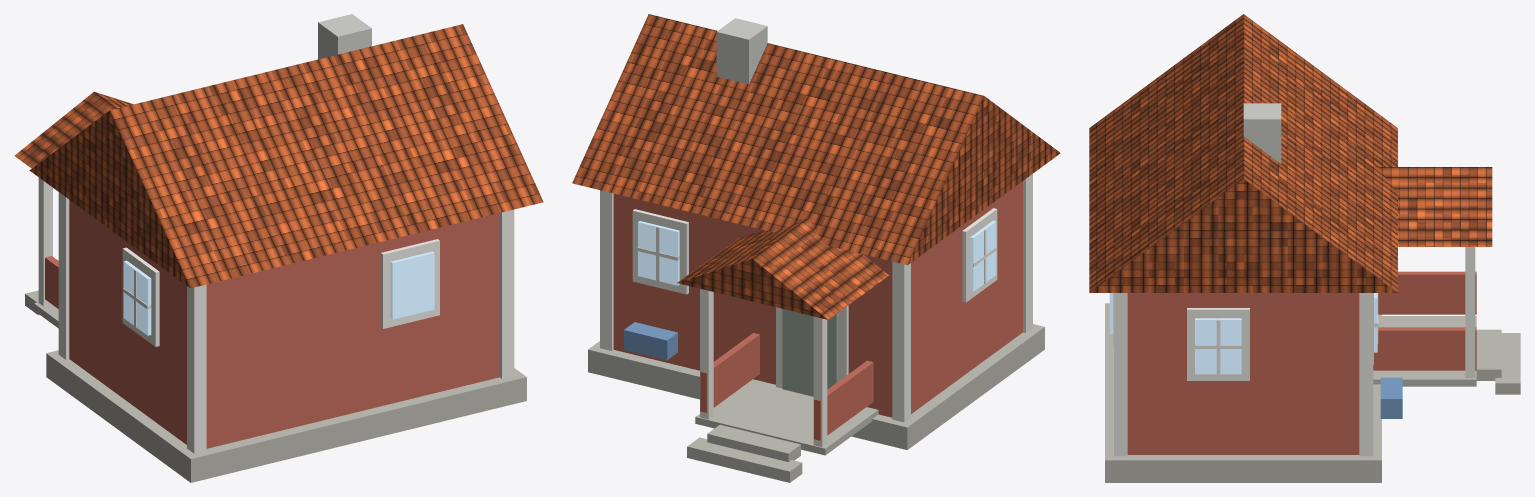
Rendered from swedish_cottage.glb.
3 renders of one model, left to right at view 1: azimuth 30°, elevation 25°; view 2: azimuth 150°, elevation 25°; view 3: azimuth 270°, elevation 25°, orthographic. The views are drawn at different scales.
Parts seen in each view (by area): view 1: SwedishCottage; view 2: SwedishCottage; view 3: SwedishCottage.
Part boxes in pixels (left/top/right/bottom): SwedishCottage: left=14, top=14, right=543, bottom=482; SwedishCottage: left=572, top=14, right=1060, bottom=482; SwedishCottage: left=1089, top=14, right=1520, bottom=482.
Size of the model in its own units: 6.2 by 5.7 by 6.85.
8 materials, 1 textured.
